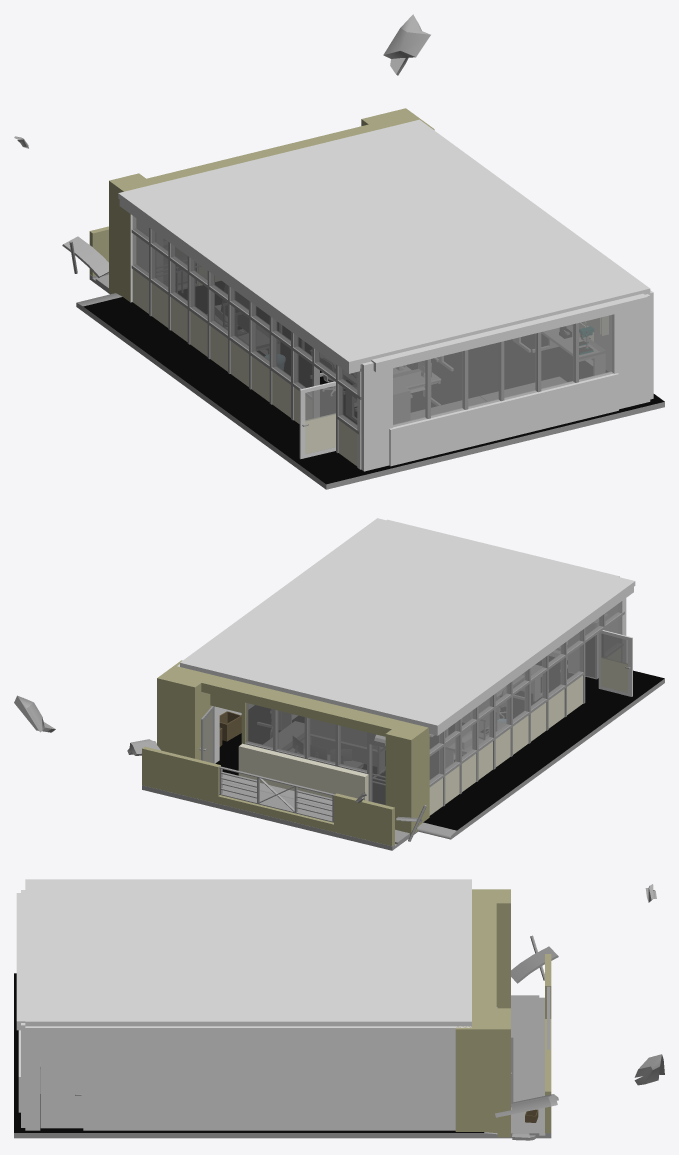
The model's file is PictureRoom.fbx.
3 renders of one model, top to bottom at view 1: azimuth 30°, elevation 25°; view 2: azimuth 150°, elevation 25°; view 3: azimuth 270°, elevation 25°, orthographic. The views are drawn at different scales.
Parts seen in each view (by area): view 1: PictureRoom; view 2: PictureRoom; view 3: PictureRoom.
Boxes of the visible parts, <box> form: PictureRoom: <box>14,14,664,489</box>; PictureRoom: <box>14,518,664,850</box>; PictureRoom: <box>14,879,664,1140</box>.
Bounding box in the file's own units: 4.52 × 1.32 × 6.16.
